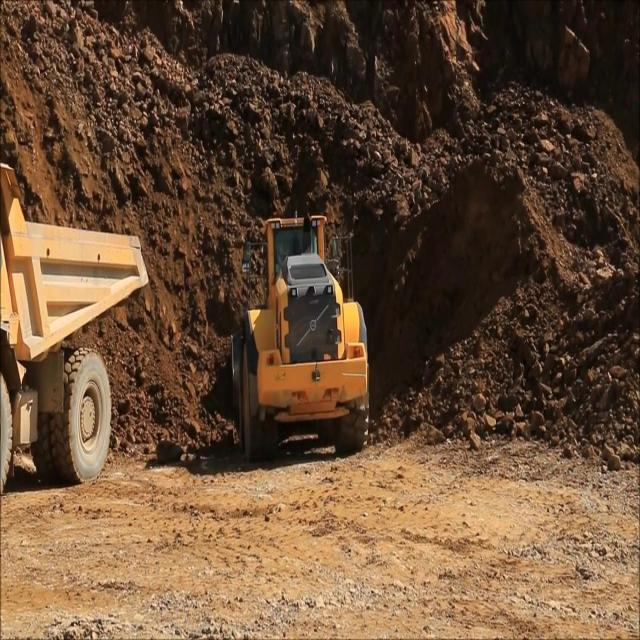Dump Truck: (0, 161, 152, 494)
Loader: (232, 213, 370, 467)
